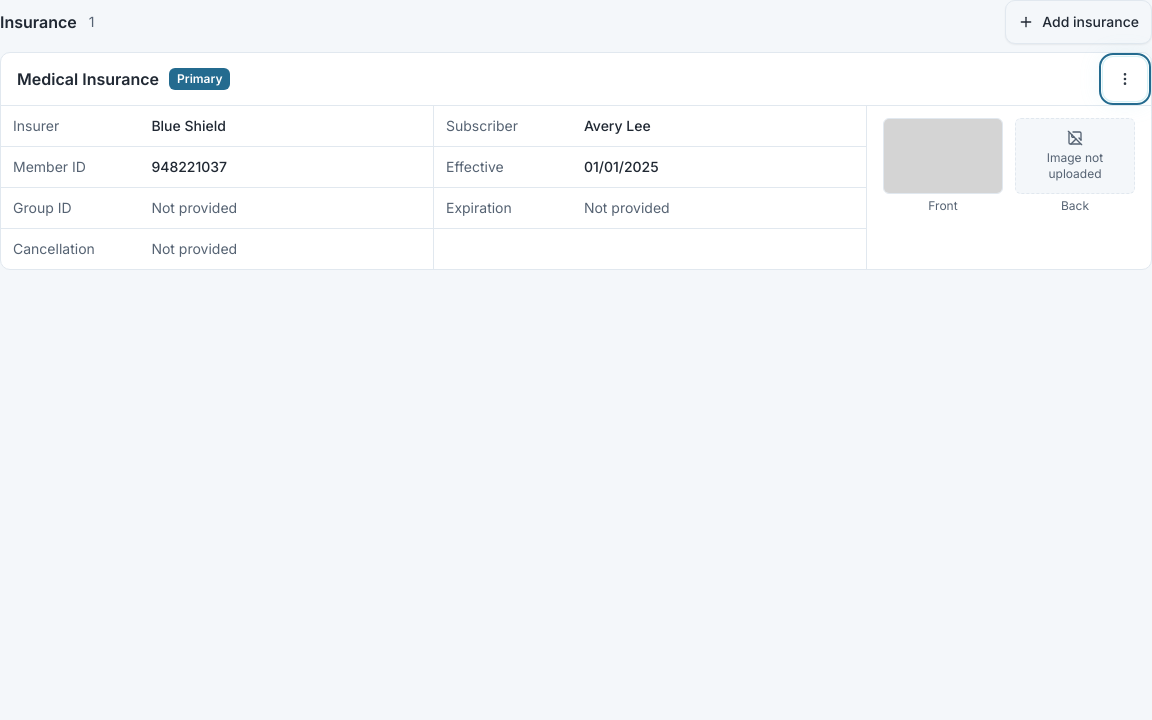
Card images: the editor's slots › Edit: a saved image shows its thumbnail with Replace; a side without one shows the empty tile
Press Enter in the button named "More actions for Blue Shield Medical Insurance", box [1103,57,1147,101]
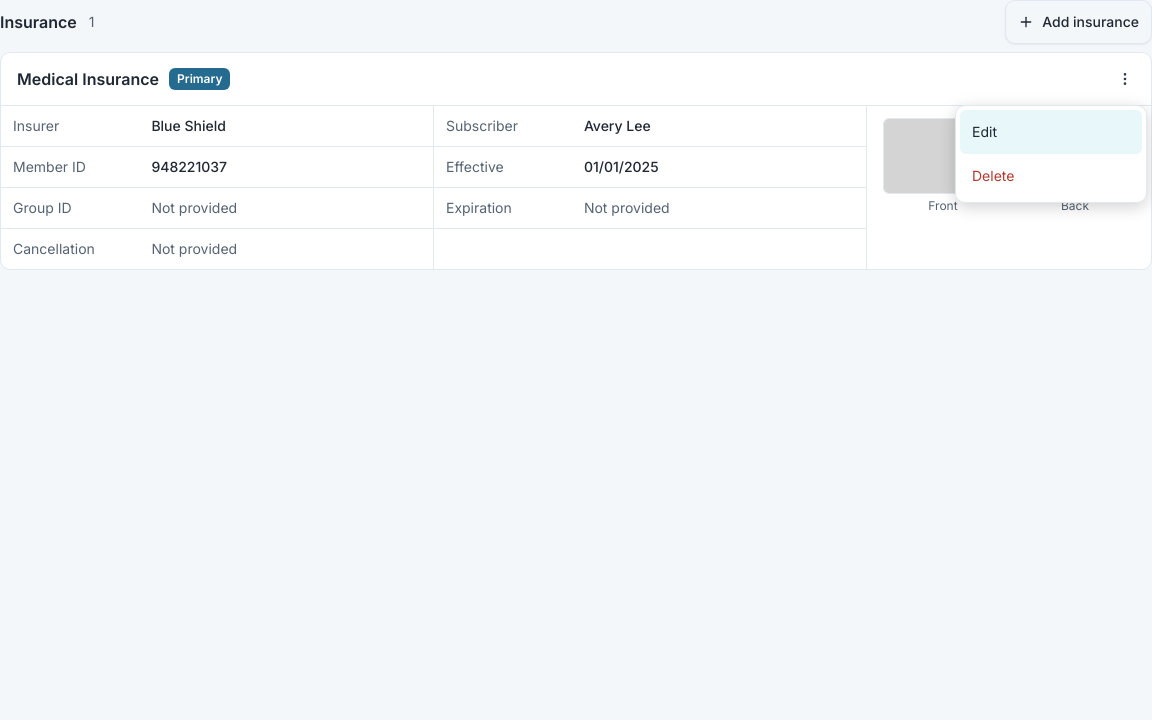
Click the menu item "Edit" at (1051, 132), box [960,110,1142,154]
(page scrolled)
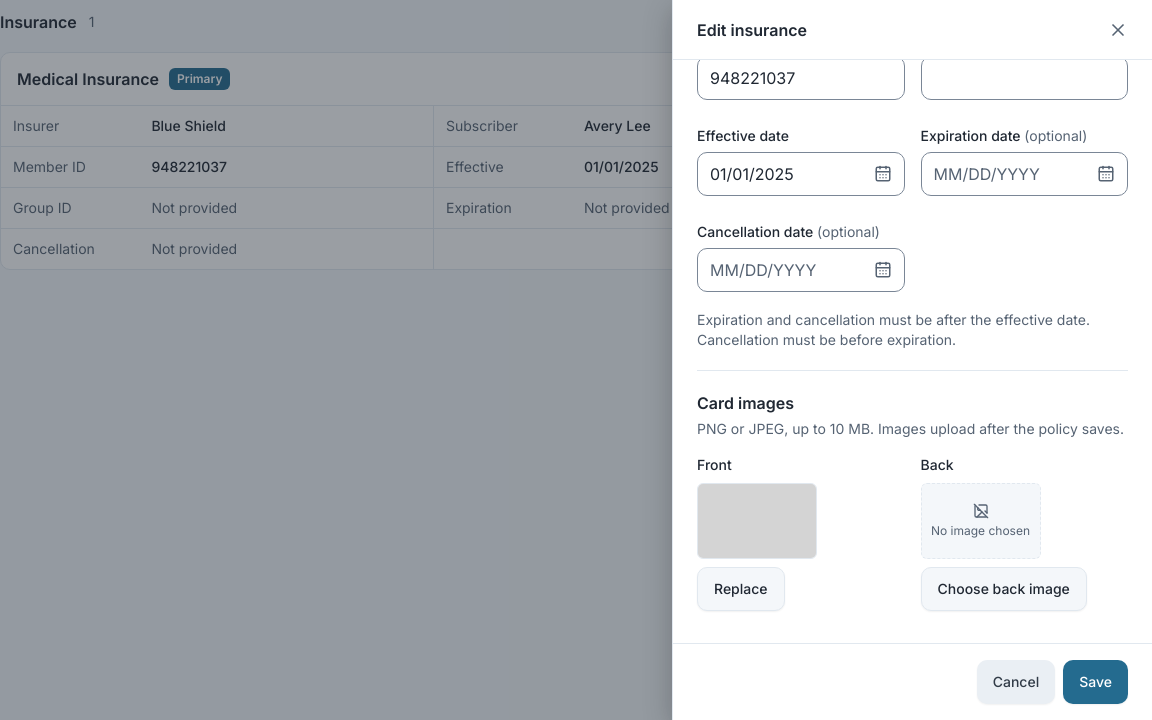
Expected: the dialog "Edit insurance" is shown, [672,0,1151,719]
Expected: the button with aria-label "Replace front image" is shown, [697,567,784,611]
Expected: the button "Choose back image" is shown, [920,567,1087,611]
